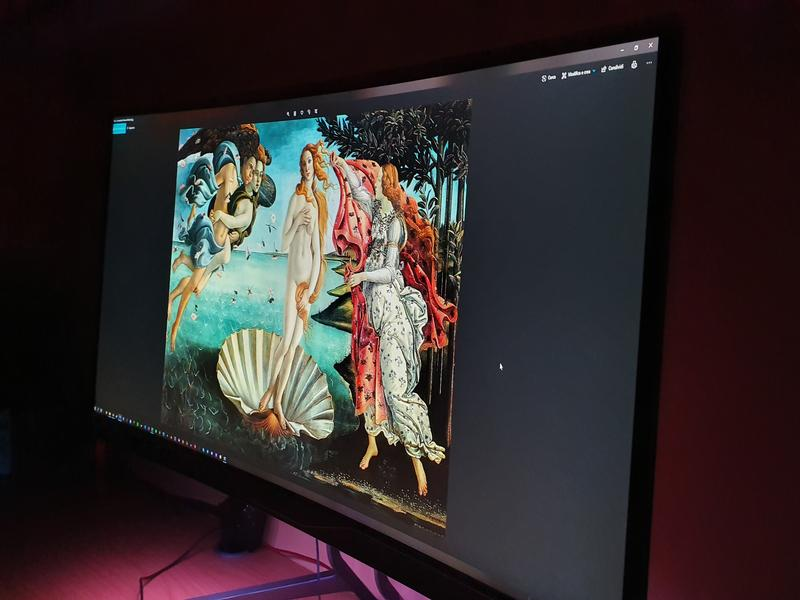Venere: (159, 98, 473, 539)
